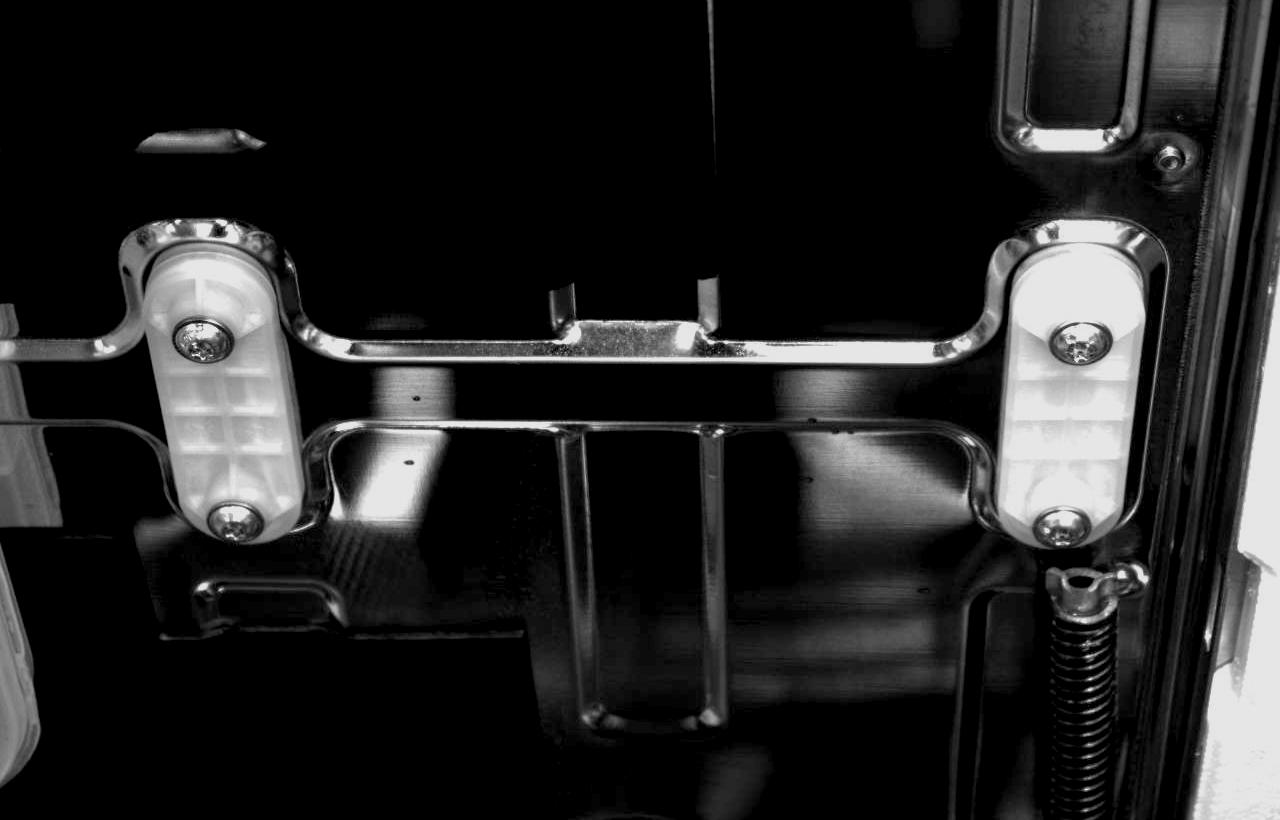vida-ok: (169, 305, 240, 372), (1043, 307, 1110, 374), (1030, 498, 1096, 557), (200, 494, 266, 552)
